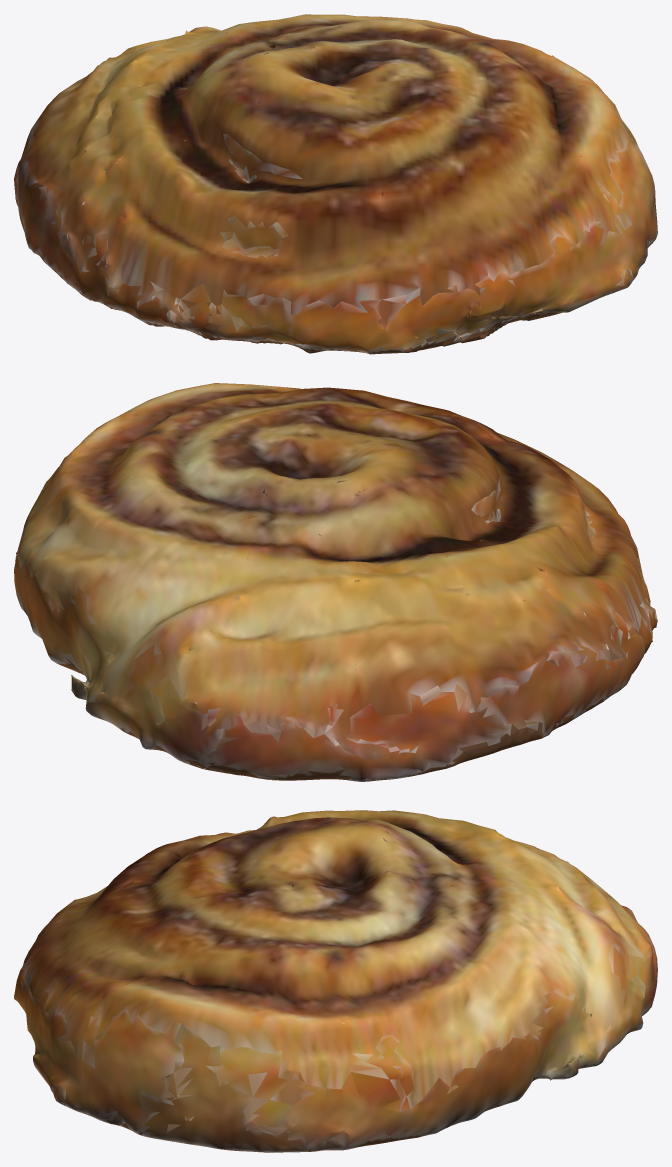
Rendered from cinnamon_10950.obj.
3 views of the same model, one above another, from view 1: azimuth 30°, elevation 25°; view 2: azimuth 150°, elevation 25°; view 3: azimuth 270°, elevation 25° (orthographic). The views are drawn at different scales.
Size of the model in its own units: 110 by 33.98 by 115.
Materials: 1 (1 with a texture image).
